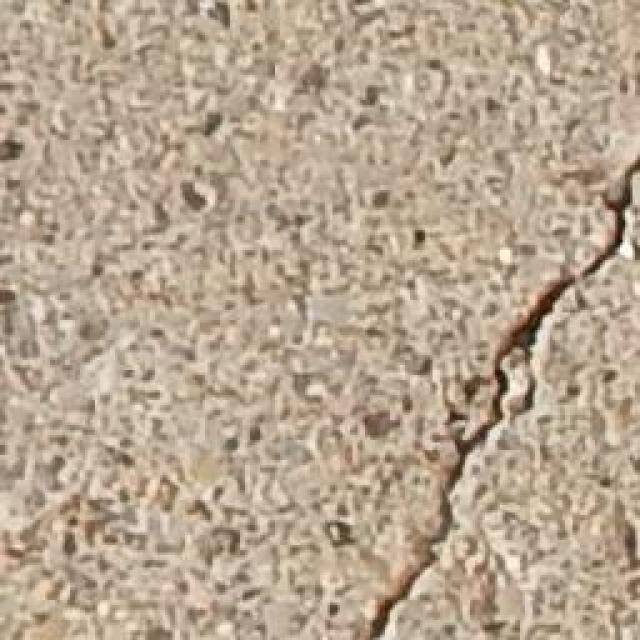concrete-crack: (367, 152, 637, 640)
